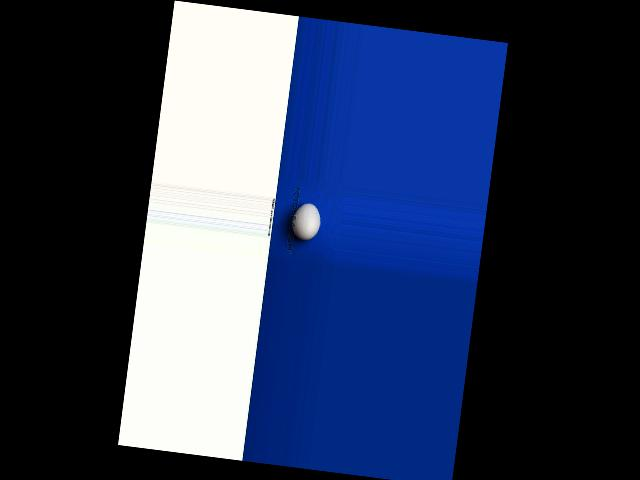egg: (289, 201, 322, 242)
